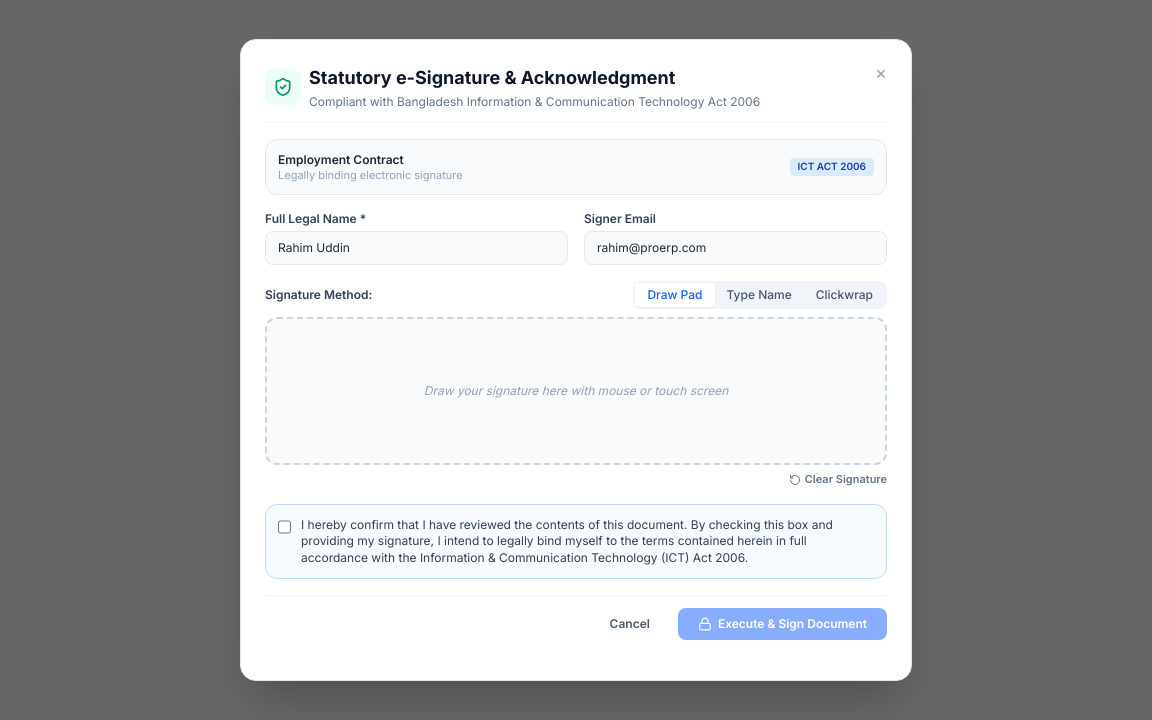
it: SignDocumentModal Security & Statutory Validation Audit › submits digital signature successfully when valid and terms are agreed
Note: Switch mode to typed full name to test non-canvas signing
Click the button "Type Name" at (759, 295), box [714,283,804,307]
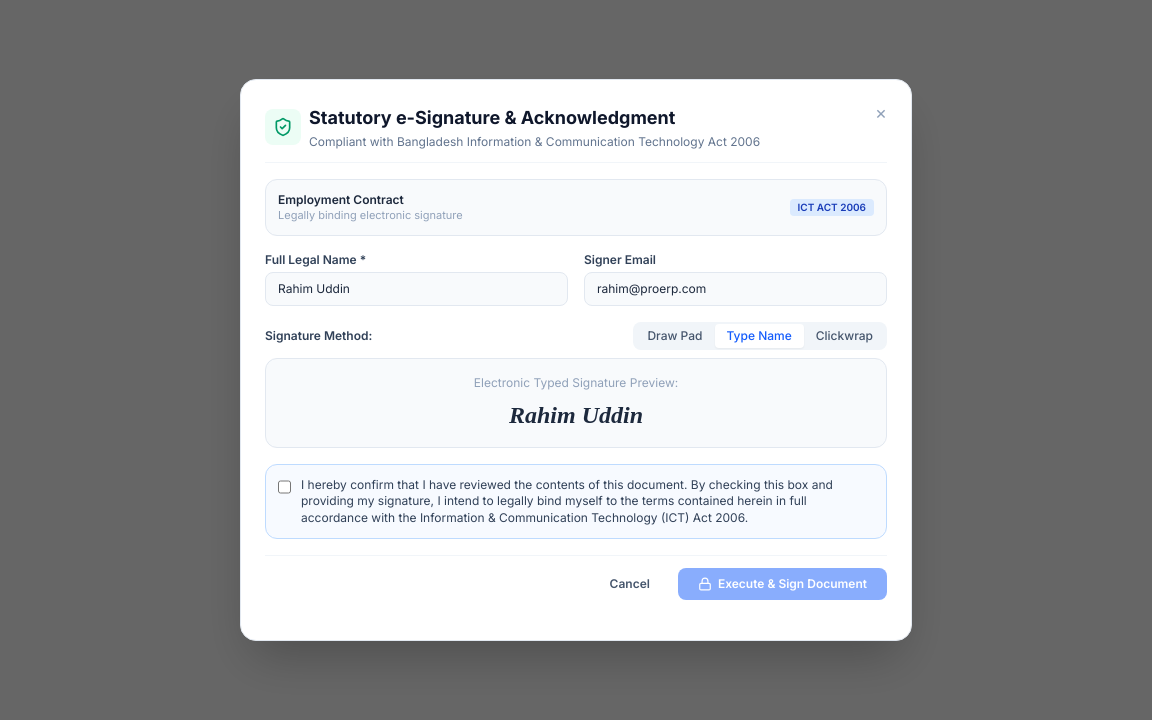
Note: Check legal agreement checkbox
Click the checkbox at (284, 487), box [278,479,291,495]
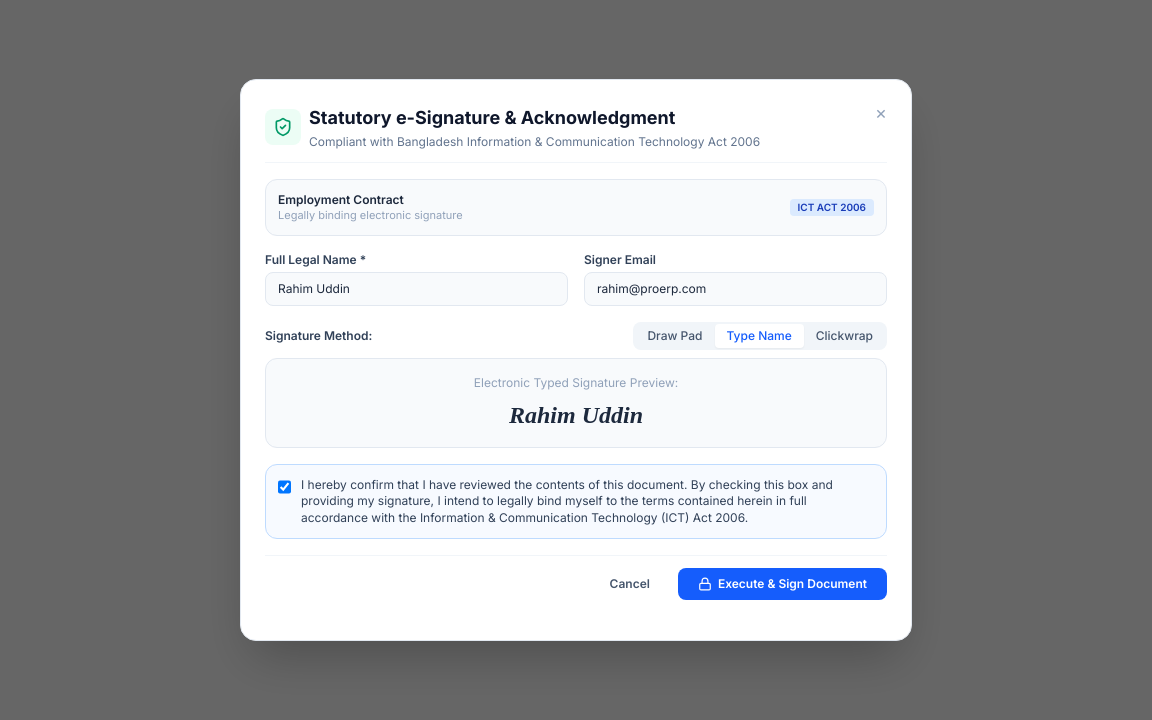
Note: Submit form
Submit the text "Execute & Sign Document", box [265,163,887,616]
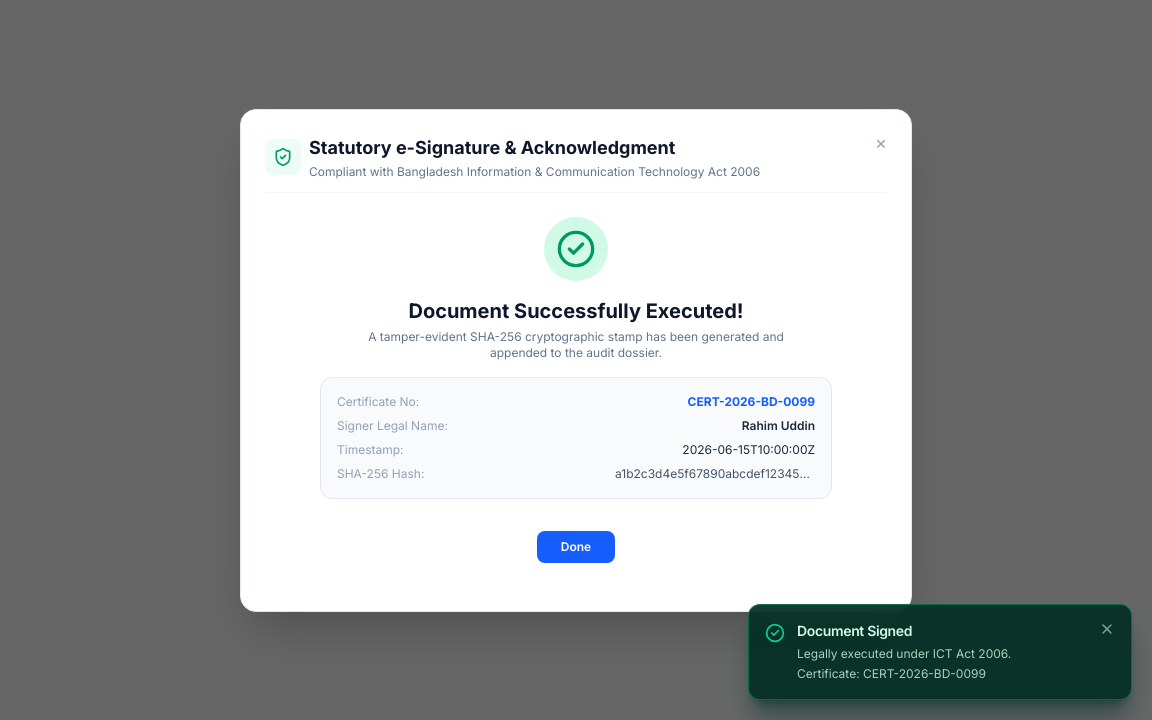
Check: the text "CERT-2026-BD-0099" is shown, box [688,394,815,410]
Check: the heading "Document Successfully Executed!" is shown, box [408,298,744,322]
